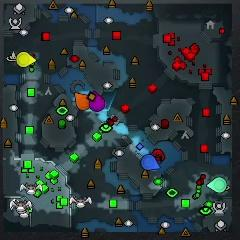p1: (141, 155, 159, 170)
p2: (207, 177, 227, 192)
p3: (88, 91, 104, 111)
p4: (17, 52, 36, 66)
p5: (74, 92, 90, 110)
